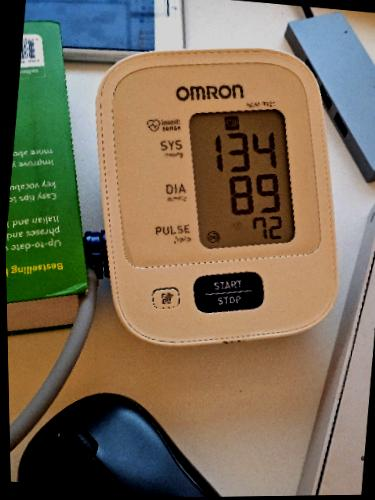bpm: (187, 106, 299, 252)
